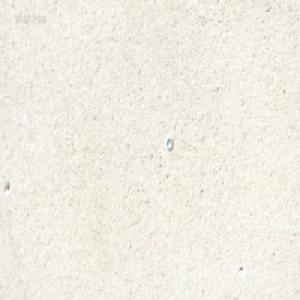Washer: (165, 138, 173, 153)
